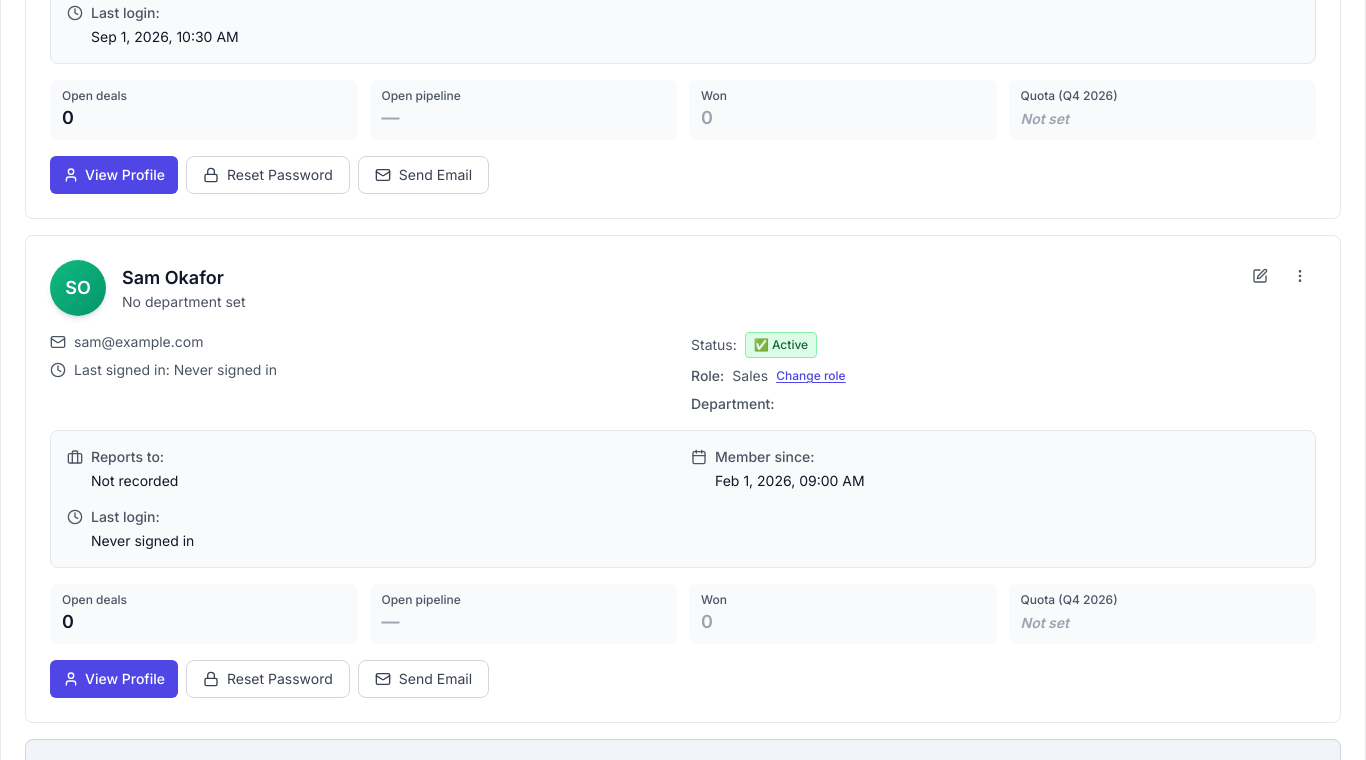
TeamManagement — the role picker › shows the sign-out consequence BEFORE confirming, and again for your own account
The width and height of the screenshot is (1366, 760).
(page scrolled)
Expected: the heading "Sam Okafor" is shown, x1=122 y1=264 x2=224 y2=292
Click the button "Change role".
click(811, 376)  # box x1=776 y1=368 x2=846 y2=384
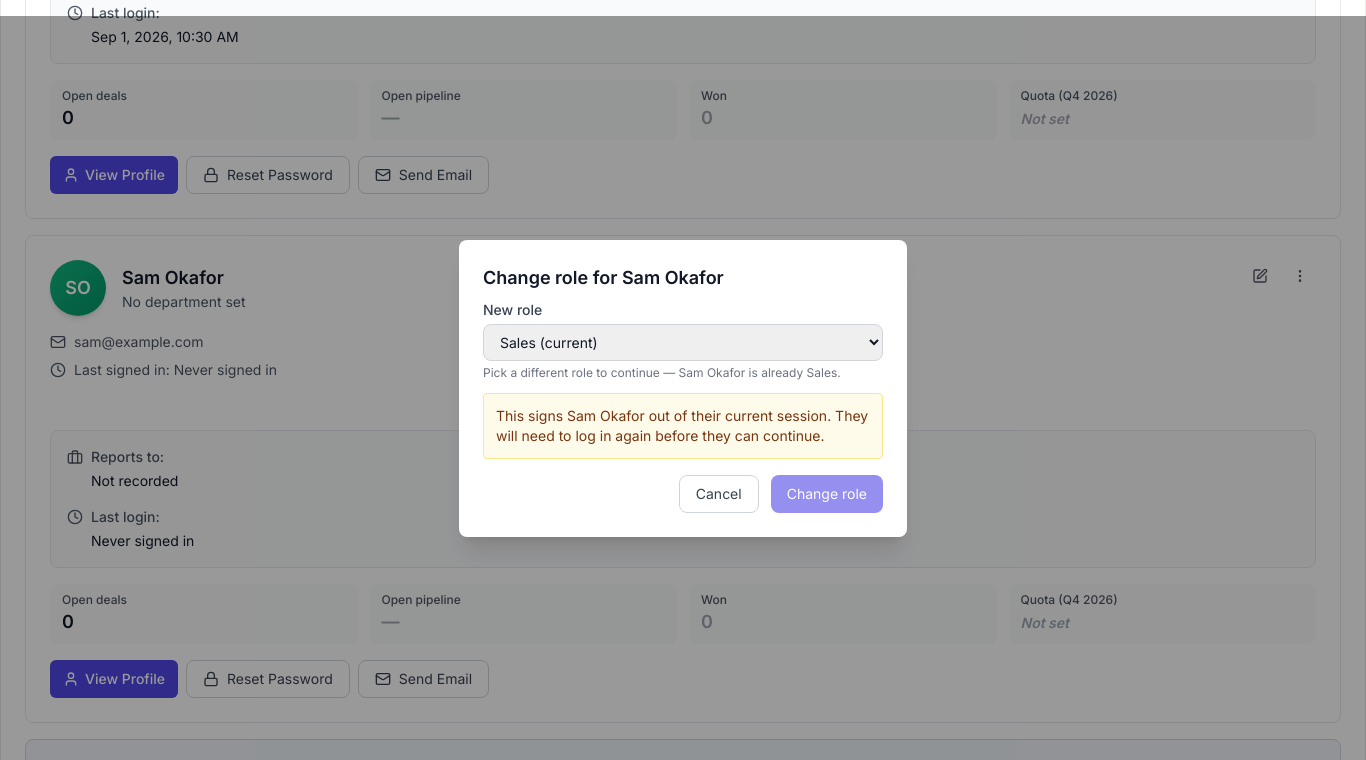
Result: the text "signs Sam Okafor out of their current session" is shown at x1=496 y1=406 x2=868 y2=444
Click the button "Cancel".
click(719, 494)  # box x1=679 y1=474 x2=759 y2=512
(page scrolled)
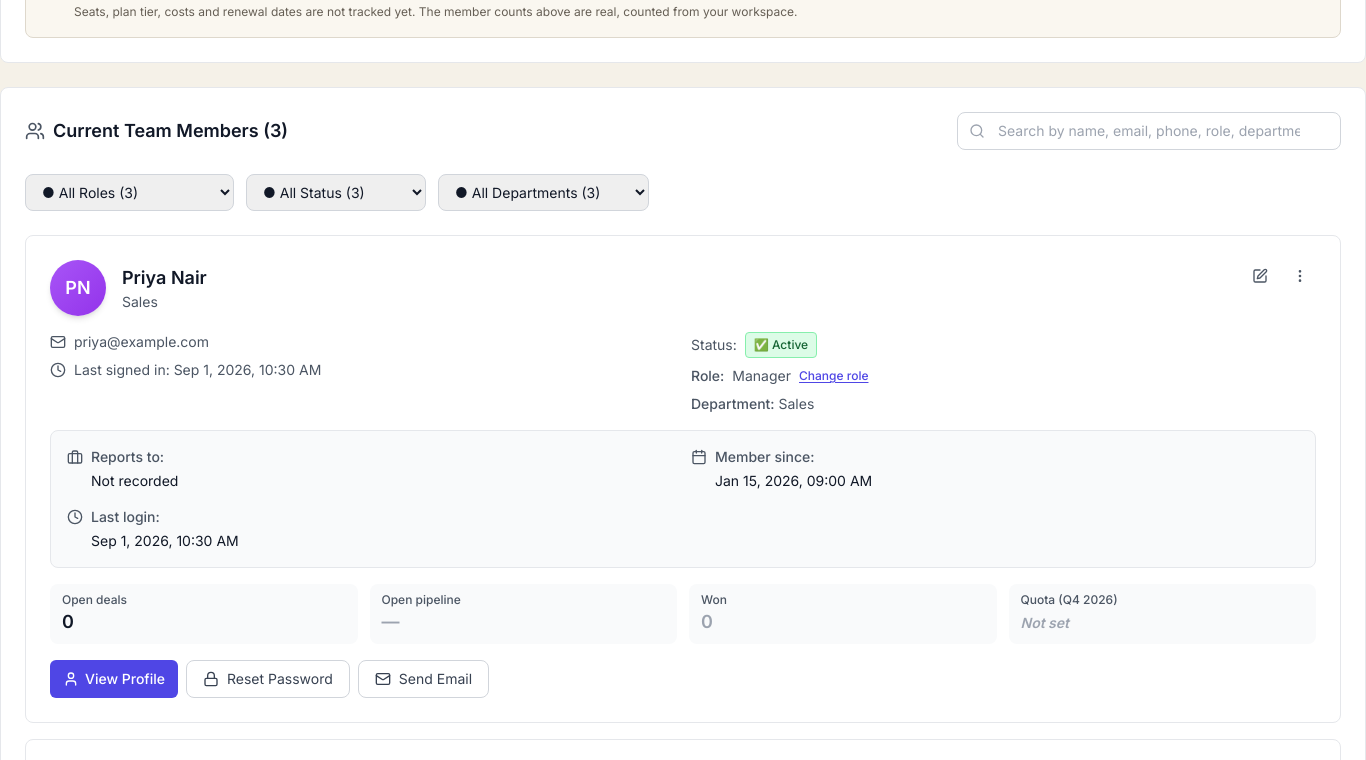
Click the button "Change role".
click(834, 376)  # box x1=799 y1=368 x2=868 y2=384
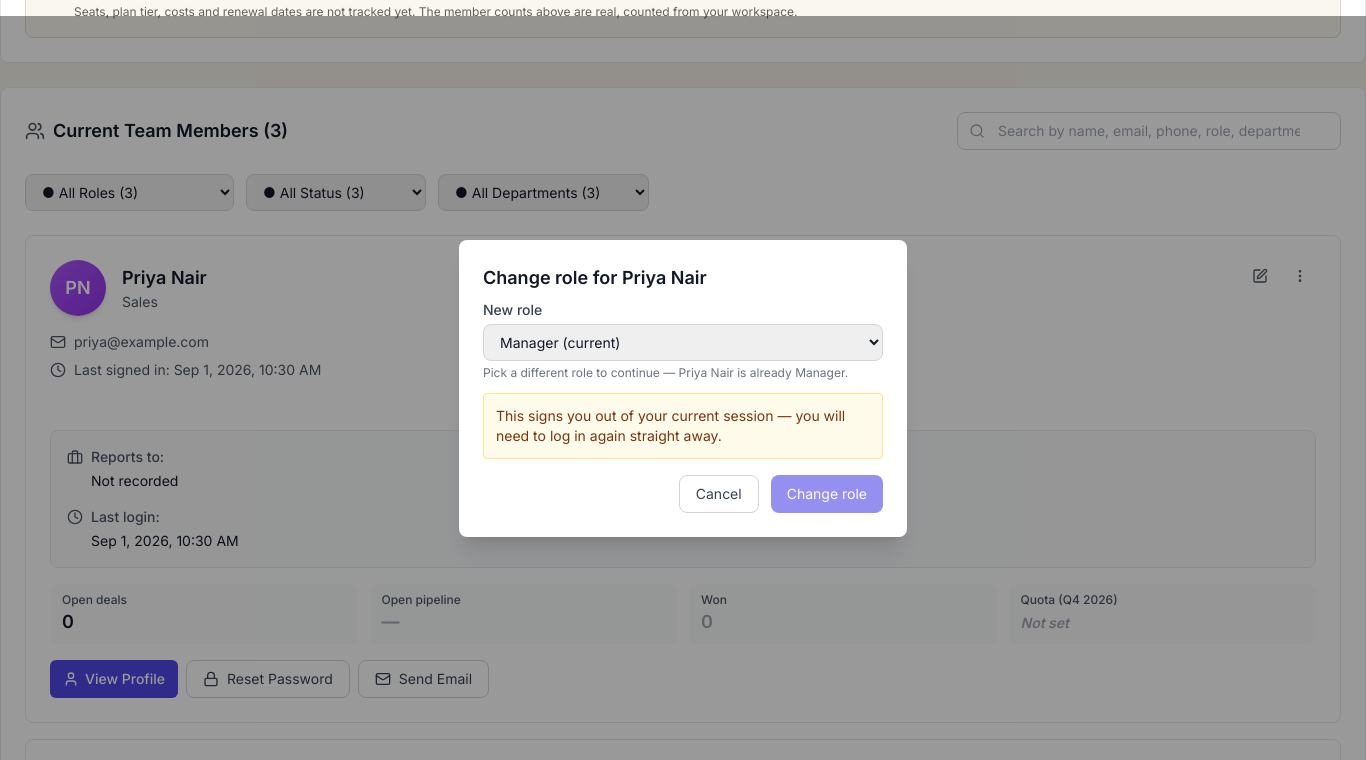
Result: the text "signs you out of your current session" is shown at x1=496 y1=406 x2=845 y2=444
